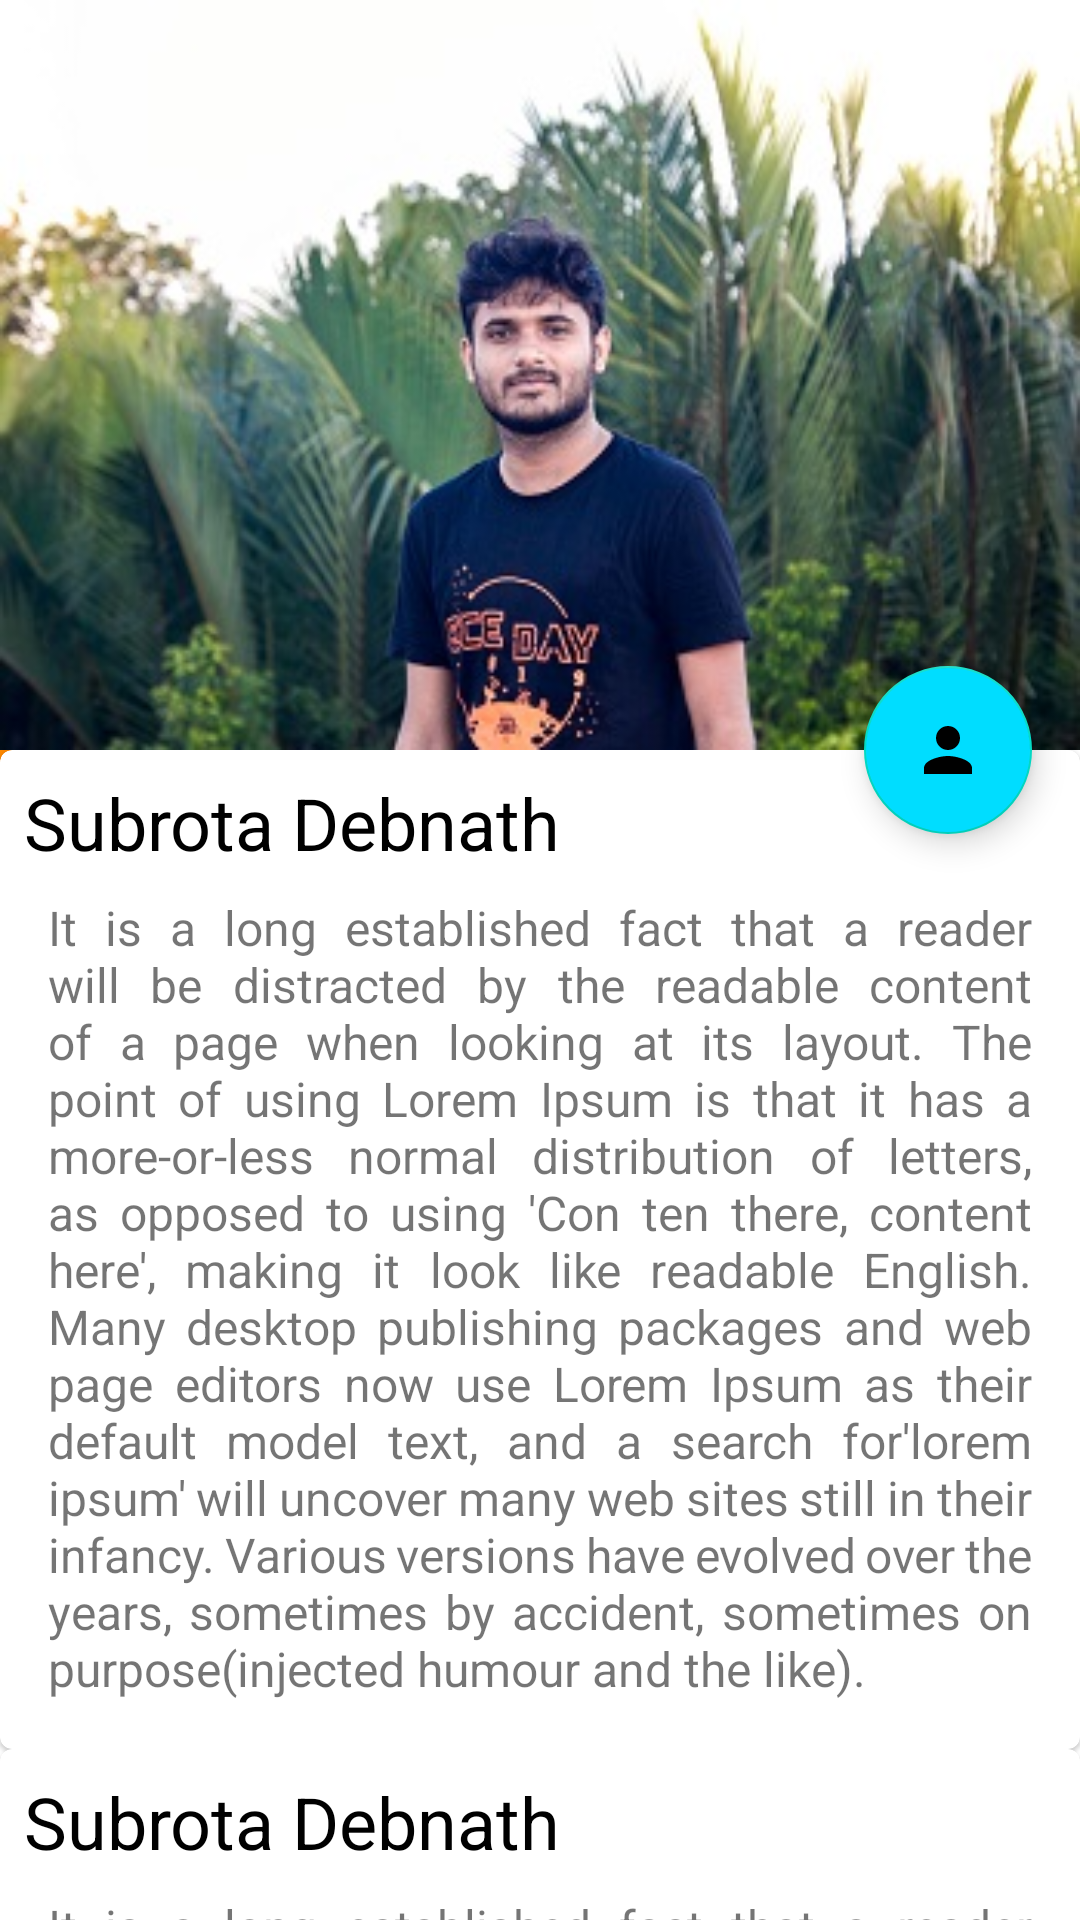

Icons on this 1080 x 1920 Android screen, each with the point to tap as (x,y):
person: (948,750)
